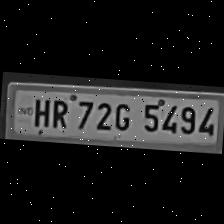2: (90, 96, 114, 130)
4: (195, 102, 217, 135), (159, 99, 179, 133)
5: (137, 98, 161, 132)
7: (70, 96, 94, 130)
9: (176, 100, 196, 134)
G: (110, 98, 134, 131)
H: (28, 94, 52, 128)
R: (47, 94, 70, 128)
